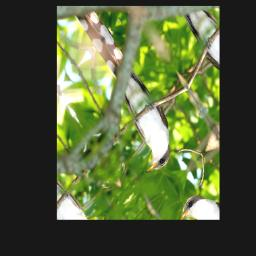Cuckoo: (76, 30, 187, 183)
